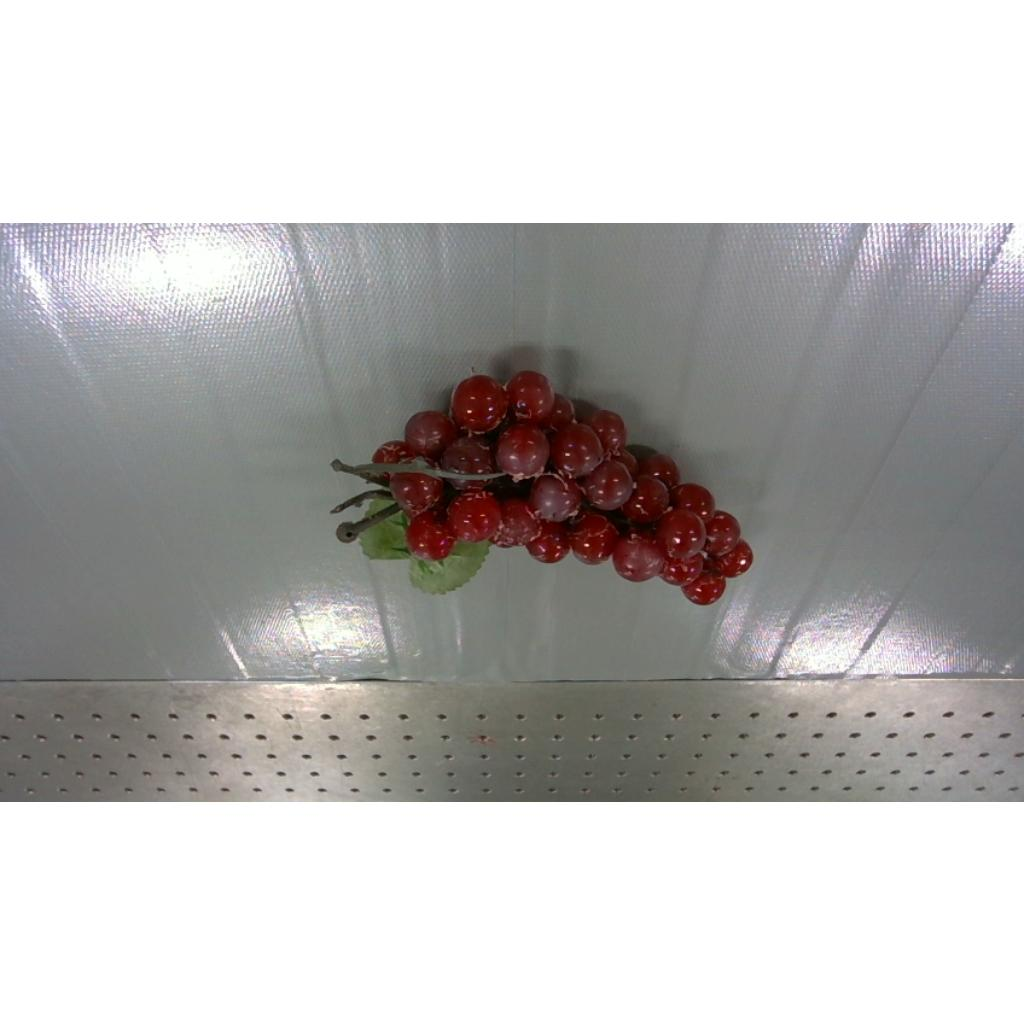grape: (332, 370, 754, 603)
